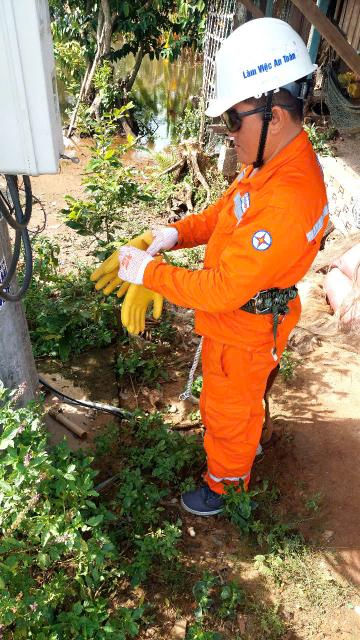gloves: (86, 226, 154, 288), (112, 274, 168, 342), (112, 238, 152, 286), (145, 222, 181, 255)
harness: (210, 280, 306, 320)
helmet: (196, 16, 315, 128)
shoes: (180, 474, 254, 516)
